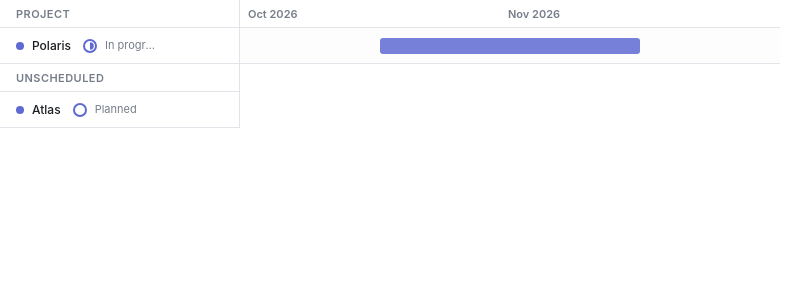
Test: ProjectTimeline sidebar status › opens the picker from a bar row without opening the project
Click the button named "In progress". click: coordinates (90, 46)
box: [79,34,101,56]
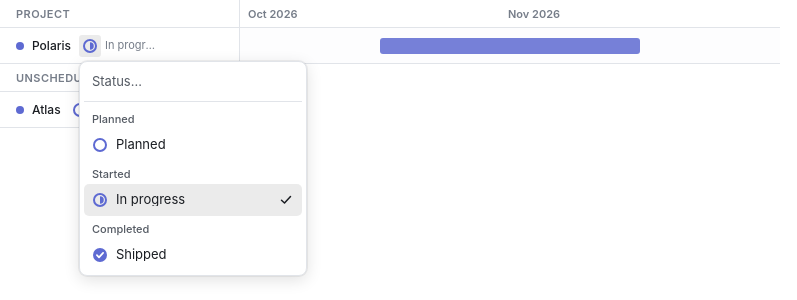
Now the menu named "Project status" is shown, box [84,106,302,270]
